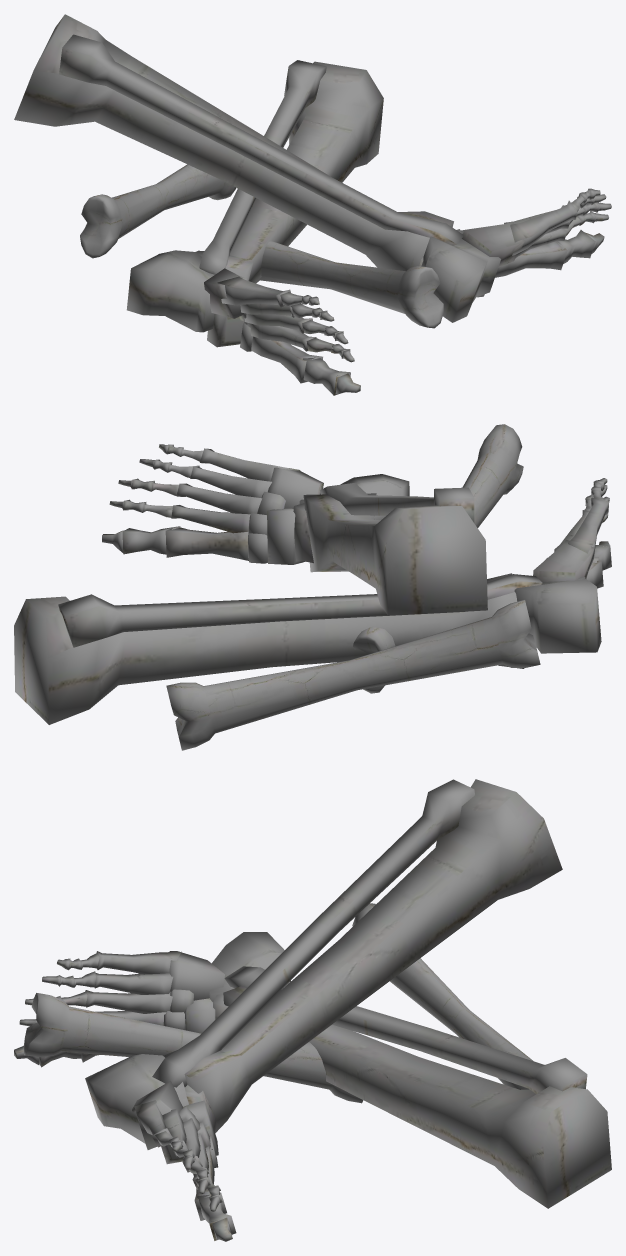
The model's file is Dungeon_BonePile_4.glb.
3 views of the same model, one above another, from view 1: azimuth 30°, elevation 25°; view 2: azimuth 150°, elevation 25°; view 3: azimuth 270°, elevation 25° (orthographic). The views are drawn at different scales.
Visible parts, largest first — view 1: Dungeon_BonePile_4; view 2: Dungeon_BonePile_4; view 3: Dungeon_BonePile_4.
Boxes of the visible parts, x1,y1,x2,y2 form: Dungeon_BonePile_4: [14, 14, 611, 395]; Dungeon_BonePile_4: [14, 424, 611, 750]; Dungeon_BonePile_4: [14, 779, 611, 1241].
Size of the model in its own units: 0.6875 by 0.341 by 0.718.
Materials: 1 (1 with a texture image).
